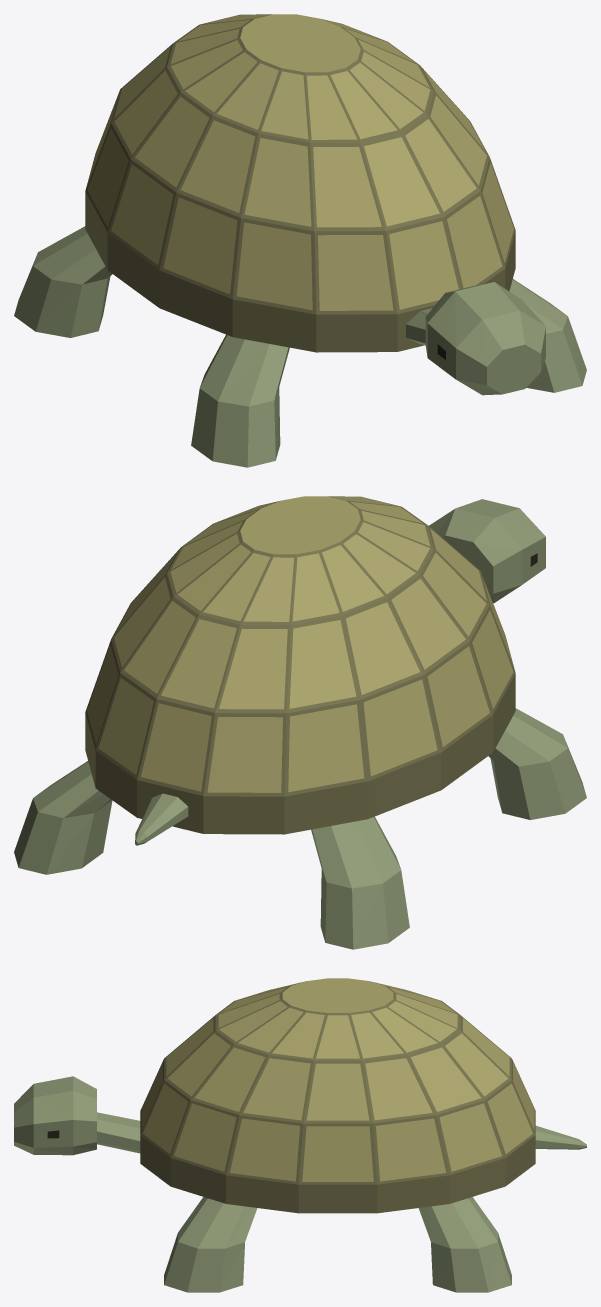
The picture shows the model from 3 angles, top to bottom: view 1: azimuth 30°, elevation 25°; view 2: azimuth 150°, elevation 25°; view 3: azimuth 270°, elevation 25°; orthographic projection. The views are drawn at different scales.
Visible parts, largest first — view 1: DomedShell_IntegralBelly, BluntHead_IntegralEyes, ForeLeftShortGroundLeg, HindLeftShortGroundLeg, ForeRightShortGroundLeg; view 2: DomedShell_IntegralBelly, HindLeftShortGroundLeg, HindRightShortGroundLeg, ForeLeftShortGroundLeg, BluntHead_IntegralEyes, ShortTaperedTail; view 3: DomedShell_IntegralBelly, ForeRightShortGroundLeg, HindRightShortGroundLeg, BluntHead_IntegralEyes, ShortForwardNeck, ShortTaperedTail.
Boxes of the visible parts, x1,y1,x2,y2 form: DomedShell_IntegralBelly: (85,14,515,352); BluntHead_IntegralEyes: (425,282,545,395); ForeLeftShortGroundLeg: (191,334,289,467); HindLeftShortGroundLeg: (14,226,112,337); ForeRightShortGroundLeg: (509,279,586,392); DomedShell_IntegralBelly: (85,496,515,834); HindLeftShortGroundLeg: (311,816,409,949); HindRightShortGroundLeg: (14,761,112,874); ForeLeftShortGroundLeg: (488,708,586,819); BluntHead_IntegralEyes: (429,499,545,603); ShortTaperedTail: (135,793,188,845); DomedShell_IntegralBelly: (140,978,535,1213); ForeRightShortGroundLeg: (164,1197,257,1292); HindRightShortGroundLeg: (418,1197,511,1292); BluntHead_IntegralEyes: (14,1076,96,1155); ShortForwardNeck: (97,1112,140,1153); ShortTaperedTail: (535,1125,586,1149).
Bounding box in the file's own units: 0.83 × 0.635 × 1.45.
